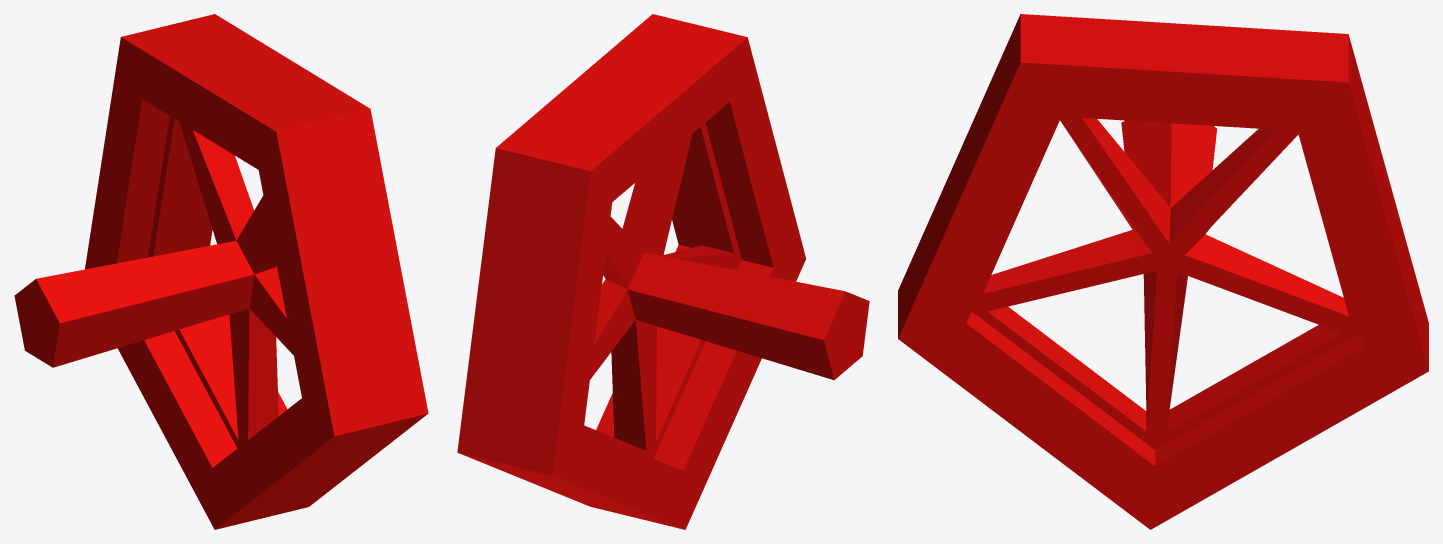
The model's file is valve.fbx.
3 renders of one model, left to right at view 1: azimuth 30°, elevation 25°; view 2: azimuth 150°, elevation 25°; view 3: azimuth 270°, elevation 25°, orthographic. The views are drawn at different scales.
Visible parts, largest first — view 1: Cylinder.016; view 2: Cylinder.016; view 3: Cylinder.016.
Part boxes in pixels (x1,y1,x2,y2): Cylinder.016: [14, 14, 428, 529]; Cylinder.016: [457, 14, 869, 529]; Cylinder.016: [898, 14, 1428, 529].
Bounding box in the file's own units: 19.27 × 31.05 × 31.95.
